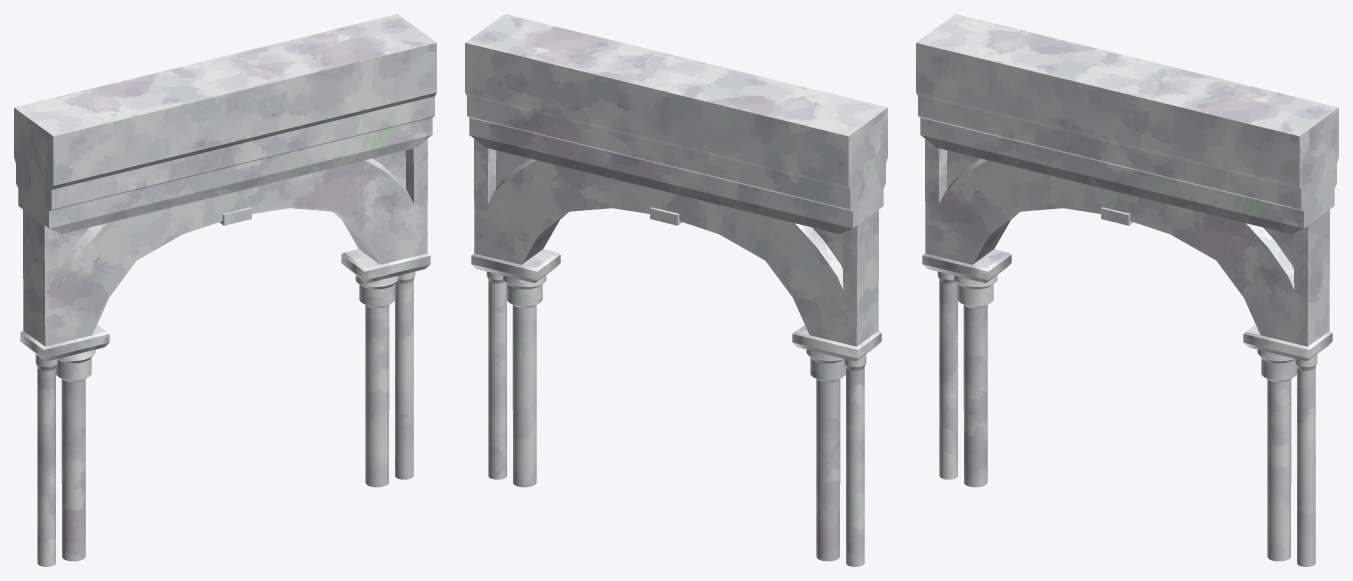
Rendered from Arch02_Blockout.fbx.
3 renders of one model, left to right at view 1: azimuth 30°, elevation 25°; view 2: azimuth 150°, elevation 25°; view 3: azimuth 330°, elevation 25°, orthographic.
Parts seen in each view (by area): view 1: Arch02_Blockout; view 2: Arch02_Blockout; view 3: Arch02_Blockout.
Boxes of the visible parts, <box> form: Arch02_Blockout: <box>14,14,436,566</box>; Arch02_Blockout: <box>465,14,887,566</box>; Arch02_Blockout: <box>916,14,1338,566</box>.
Bounding box in the file's own units: 4120 × 4521 × 726.
